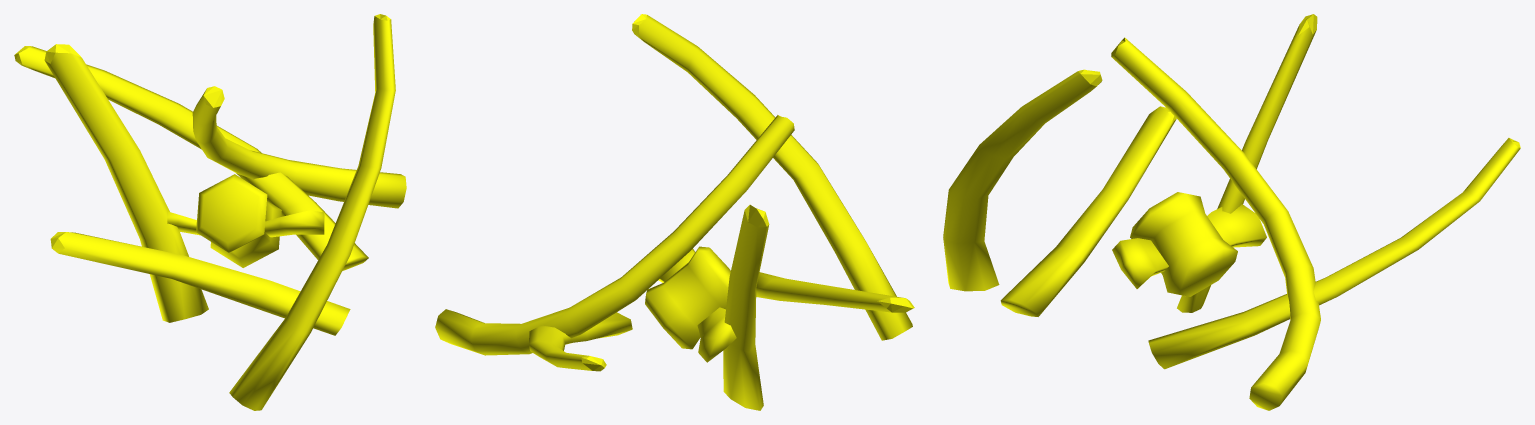
File: bone_whale_lump03.glb
The picture shows the model from 3 angles, left to right: view 1: azimuth 30°, elevation 25°; view 2: azimuth 150°, elevation 25°; view 3: azimuth 270°, elevation 25°; orthographic projection. The views are drawn at different scales.
Parts seen in each view (by area): view 1: bone_whale_lump02; view 2: bone_whale_lump02; view 3: bone_whale_lump02.
Boxes of the visible parts, x1,y1,x2,y2 form: bone_whale_lump02: (14,14,406,410); bone_whale_lump02: (435,14,914,410); bone_whale_lump02: (943,14,1520,410).
Size of the model in its own units: 13.05 by 9.35 by 15.4.
Materials: 1 (1 with a texture image).
